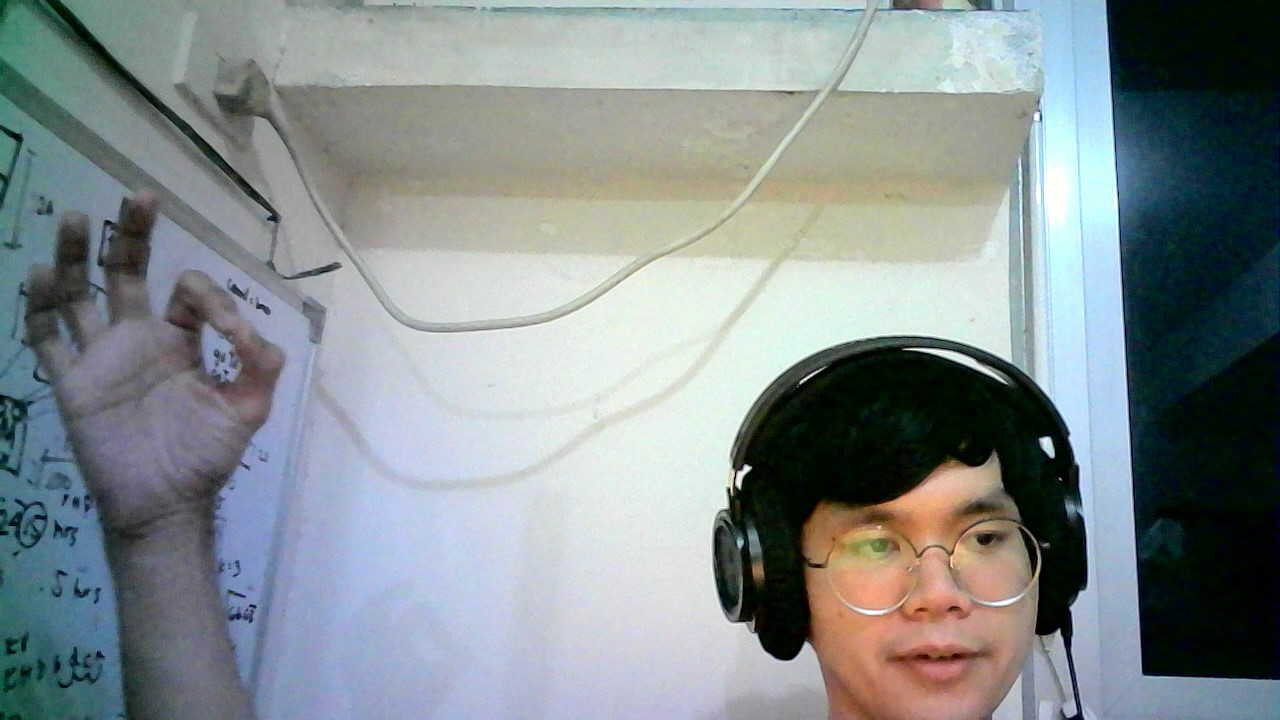ok: (25, 191, 288, 537)
